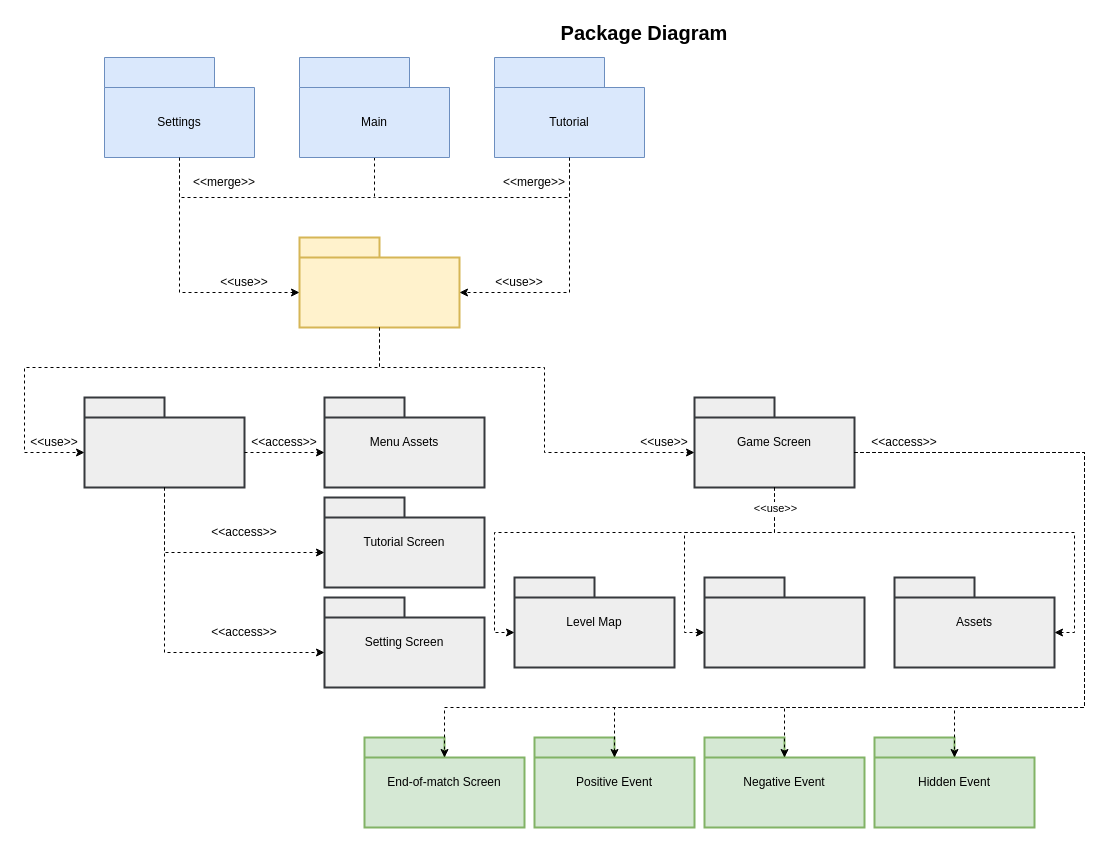
Some shapes in this 1110 by 845 pixel diagram are drawn without their labels. The box of each missing label's shape, as (x1, y1, x2, y2) in pixels:
Menu Screen: (83, 396, 245, 488)
Player: (703, 576, 865, 668)
Screen: (298, 236, 460, 328)
